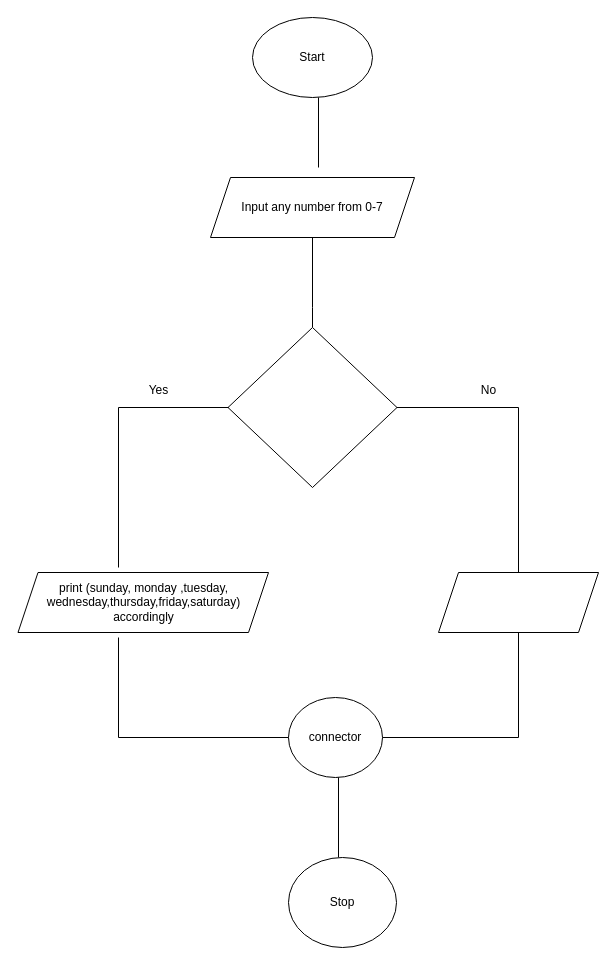
Image size: 616x965. Some labels were removed from this diagram. The centre of each missing label's shape, as x and y in pixels:
if num = 0,1,2,3,4,5,6,7: pixel 312 407
Print(invalid input): pixel 518 602
